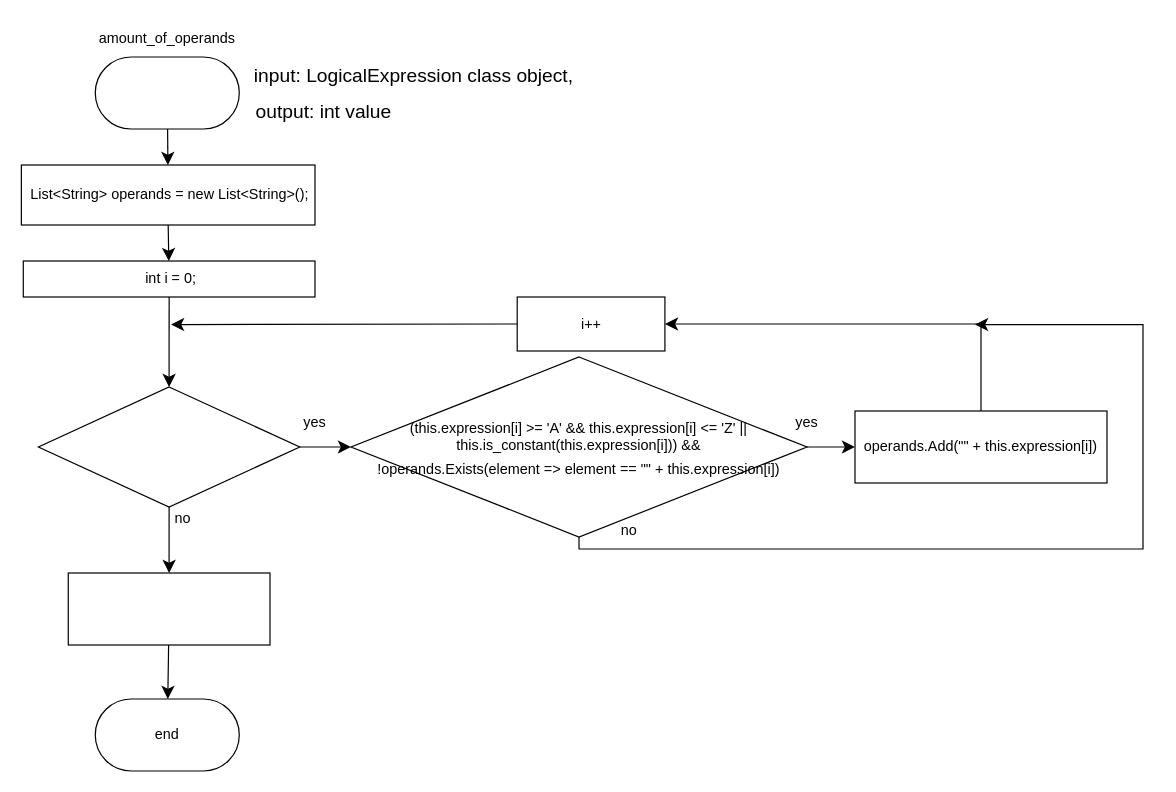
Image size: 1176x792. Some labels were removed from this diagram. Here are the shapes that lost their labels. From the top down, the centre of each, then its label:
[166,92]: begin
[168,446]: i < this.expression.Length
[168,608]: int value = operands.Count
